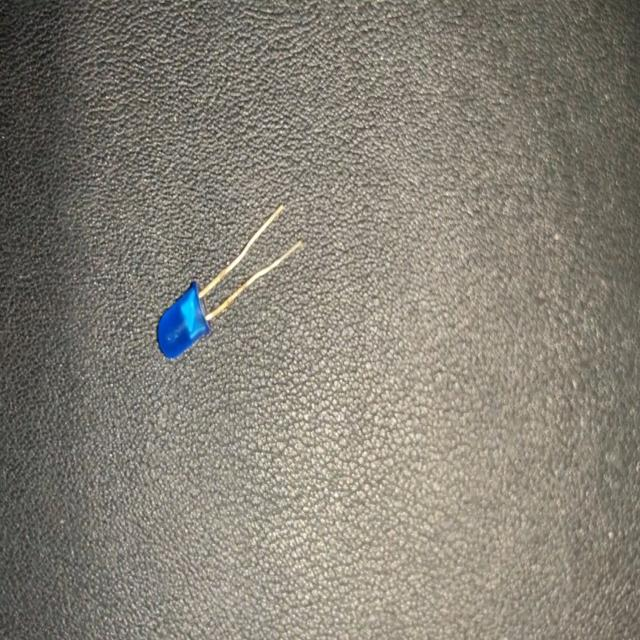LED: (156, 200, 304, 362)
